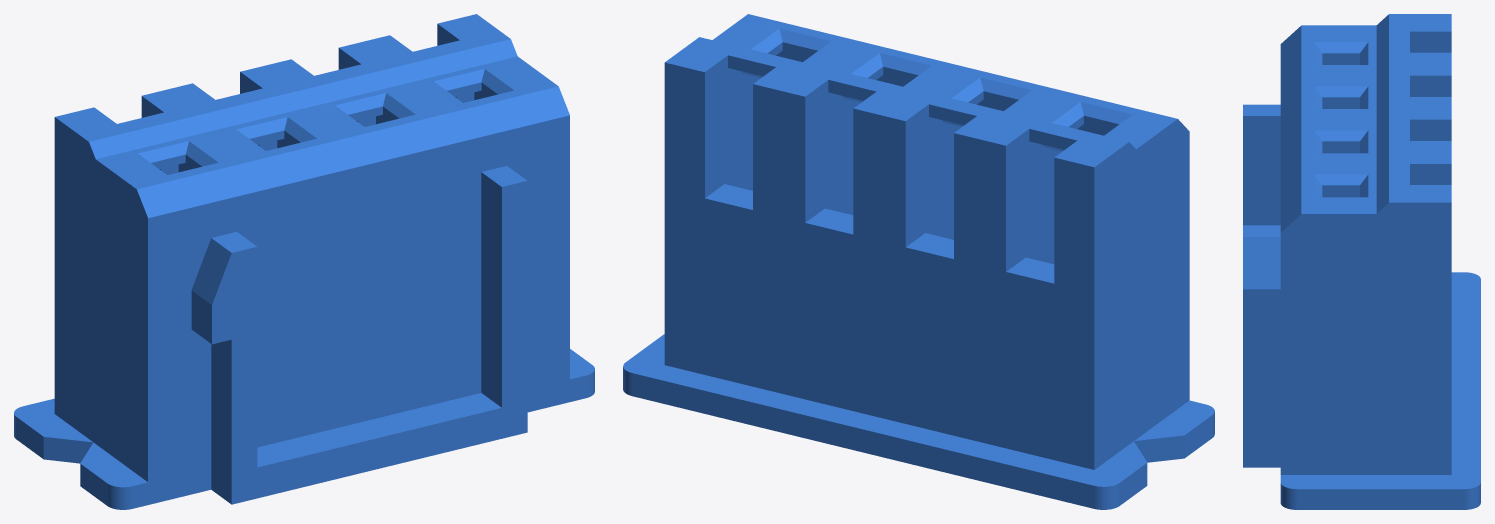
Rendered from jst_f.glb.
The picture shows the model from 3 angles, left to right: view 1: azimuth 30°, elevation 25°; view 2: azimuth 150°, elevation 25°; view 3: azimuth 270°, elevation 25°; orthographic projection. The views are drawn at different scales.
Visible parts, largest first — view 1: Body5; view 2: Body5; view 3: Body5.
Boxes of the visible parts, box(x1,y1,x2,y2) form: Body5: box(14, 14, 594, 509); Body5: box(623, 14, 1214, 509); Body5: box(1243, 14, 1480, 509).
Size of the model in its own units: 12.3 by 7.75 by 5.7.
